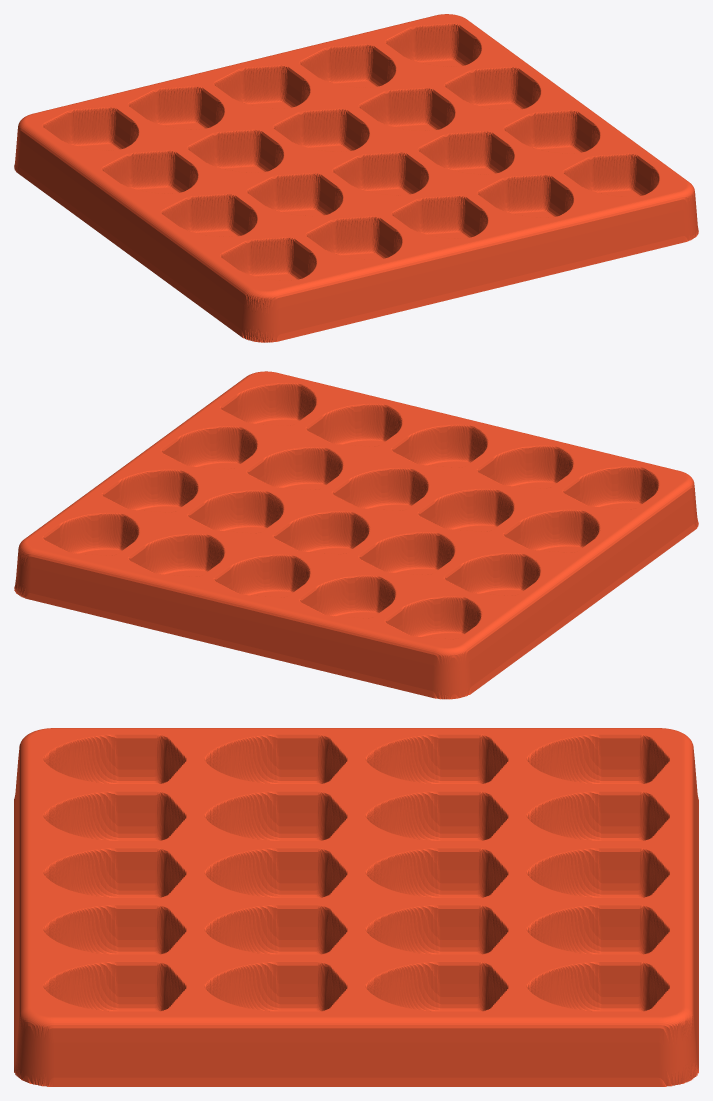
The model's file is mold.glb.
3 renders of one model, top to bottom at view 1: azimuth 30°, elevation 25°; view 2: azimuth 150°, elevation 25°; view 3: azimuth 270°, elevation 25°, orthographic. The views are drawn at different scales.
Parts seen in each view (by area): view 1: geometry_0; view 2: geometry_0; view 3: geometry_0.
Boxes of the visible parts, box(x1,y1,x2,y2) form: geometry_0: box(14, 14, 698, 342); geometry_0: box(14, 371, 698, 699); geometry_0: box(14, 728, 698, 1086).
Size of the model in its own units: 0.1627 by 0.0159 by 0.1563.
